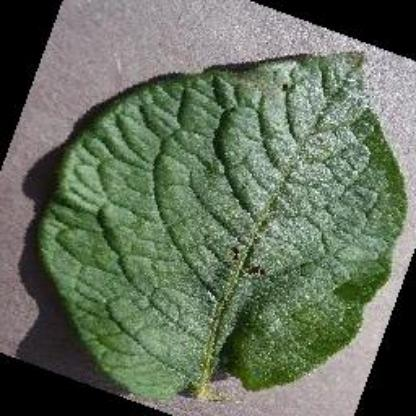Healthy-plant: (26, 46, 408, 411)
